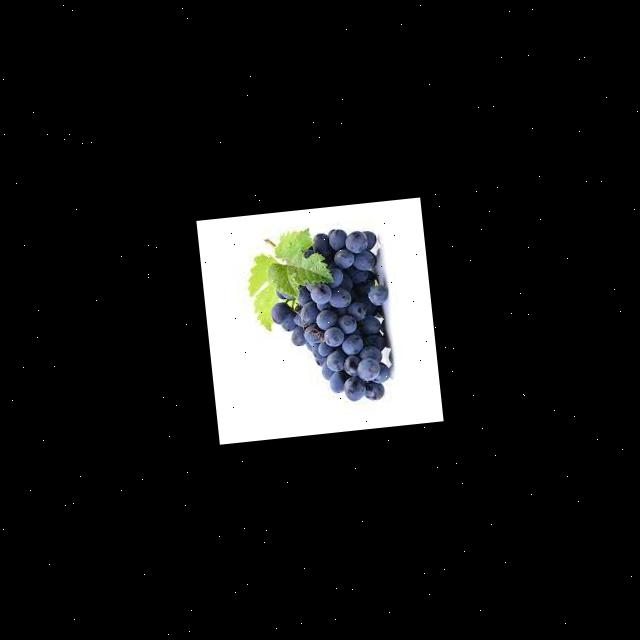grape: (262, 223, 399, 409)
